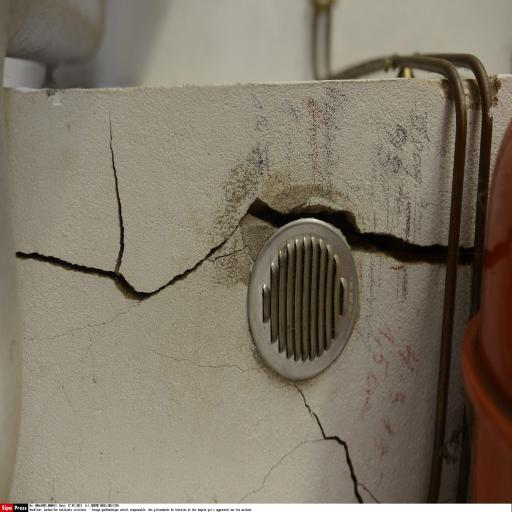spalling: (20, 112, 449, 312), (296, 390, 368, 494)
